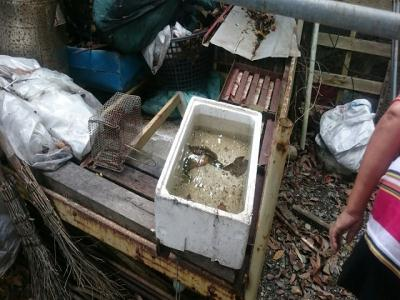plastic_bag: (1, 51, 105, 173), (311, 95, 378, 173)
styrofoam: (151, 93, 264, 273)
